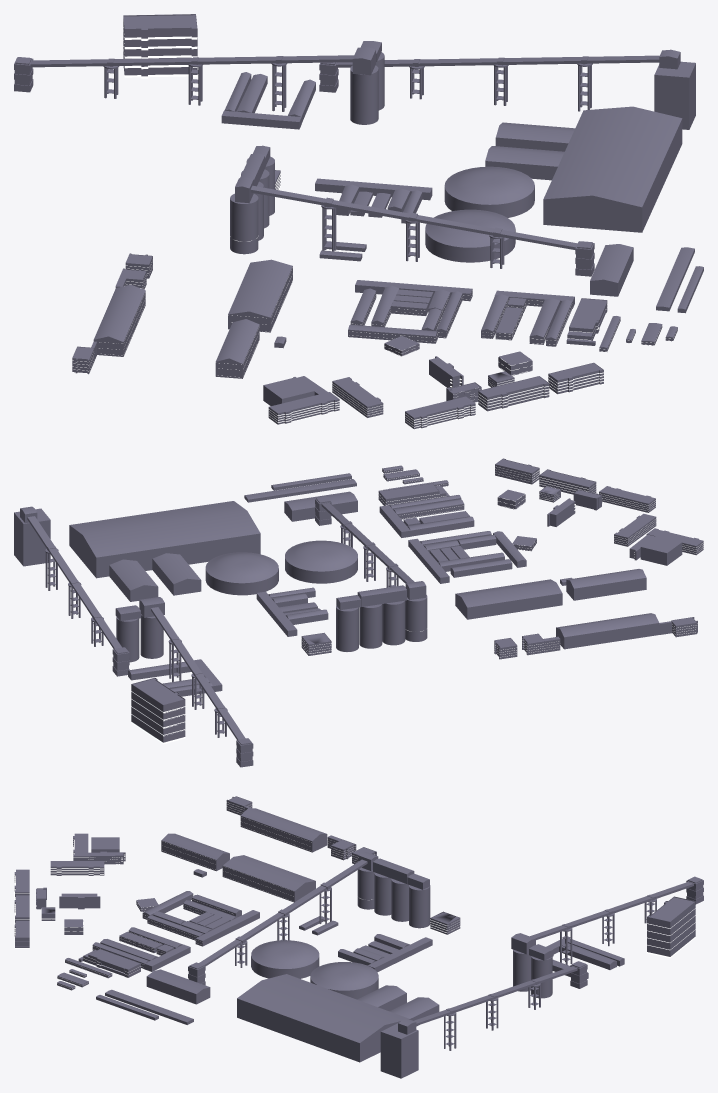
The model's file is 7-processed.glb.
The picture shows the model from 3 angles, top to bottom: view 1: azimuth 30°, elevation 25°; view 2: azimuth 150°, elevation 25°; view 3: azimuth 270°, elevation 25°; orthographic projection. The views are drawn at different scales.
Visible parts, largest first — view 1: 立方体.5 (×3), 矩形.5 (×2), 立方体 (×3), 圆柱体.5, 楼1.7-材质, 圆柱体.4, 立方体.2, 圆柱体 (×2), 挤压 (×4), 矩形.4, 矩形.2, 立方体.4 (×2) (+9 smaller); view 2: 立方体.5 (×3), 立方体 (×4), 楼1.7-材质 (×2), 矩形.5 (×2), 立方体.2, 圆柱体.5, 圆柱体.4, 矩形.4, 圆柱体 (×2), 圆柱体.1 (×2), 矩形.2, 立方体.1 (+10 smaller); view 3: 立方体.5 (×3), 立方体 (×4), 楼1.7-材质 (×2), 矩形.5 (×2), 立方体.2, 圆柱体.4, 矩形.2, 圆柱体.5, 矩形.4, 立方体.1, 圆柱体.1 (×2), 圆柱体 (×2) (+7 smaller).
Boxes of the visible parts, x1=… form: 立方体.5 (×3): x1=93, y1=106, x2=682, y2=356; 矩形.5 (×2): x1=221, y1=72, x2=432, y2=223; 立方体 (×3): x1=263, y1=61, x2=695, y2=405; 圆柱体.5: x1=444, y1=166, x2=534, y2=217; 楼1.7-材质: x1=123, y1=14, x2=197, y2=76; 圆柱体.4: x1=425, y1=209, x2=515, y2=262; 立方体.2: x1=228, y1=259, x2=292, y2=332; 圆柱体 (×2): x1=230, y1=65, x2=378, y2=254; 挤压 (×4): x1=268, y1=376, x2=549, y2=419; 矩形.4: x1=481, y1=290, x2=574, y2=346; 矩形.2: x1=355, y1=280, x2=472, y2=338; 立方体.4 (×2): x1=495, y1=122, x2=574, y2=340; 立方体.5 (×3): x1=69, y1=491, x2=659, y2=649; 立方体 (×4): x1=14, y1=498, x2=682, y2=606; 楼1.7-材质 (×2): x1=131, y1=632, x2=331, y2=742; 矩形.5 (×2): x1=128, y1=587, x2=328, y2=696; 立方体.2: x1=455, y1=579, x2=562, y2=619; 圆柱体.5: x1=205, y1=552, x2=278, y2=595; 圆柱体.4: x1=285, y1=540, x2=357, y2=583; 矩形.4: x1=379, y1=495, x2=474, y2=537; 圆柱体 (×2): x1=140, y1=595, x2=427, y2=658; 圆柱体.1 (×2): x1=116, y1=600, x2=405, y2=662; 矩形.2: x1=408, y1=531, x2=504, y2=583; 立方体.1: x1=566, y1=569, x2=646, y2=600; 立方体.5 (×3): x1=146, y1=808, x2=409, y2=1062; 立方体 (×4): x1=59, y1=837, x2=418, y2=1078; 楼1.7-材质 (×2): x1=430, y1=896, x2=695, y2=956; 矩形.5 (×2): x1=338, y1=934, x2=624, y2=978; 立方体.2: x1=222, y1=855, x2=315, y2=902; 圆柱体.4: x1=251, y1=940, x2=319, y2=978; 矩形.2: x1=147, y1=900, x2=259, y2=946; 圆柱体.5: x1=310, y1=962, x2=378, y2=999; 矩形.4: x1=92, y1=927, x2=190, y2=971; 立方体.1: x1=161, y1=833, x2=229, y2=871; 圆柱体.1 (×2): x1=374, y1=872, x2=552, y2=998; 圆柱体 (×2): x1=357, y1=867, x2=530, y2=991.
Size of what is drawn, in the model's own units: 10290 by 890 by 11084.
